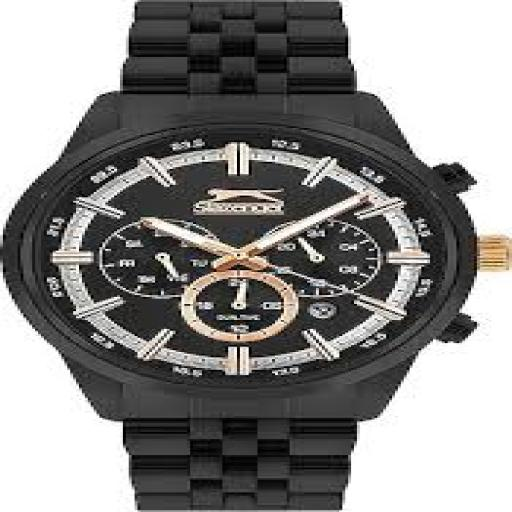KolSaati: (2, 2, 512, 510)
